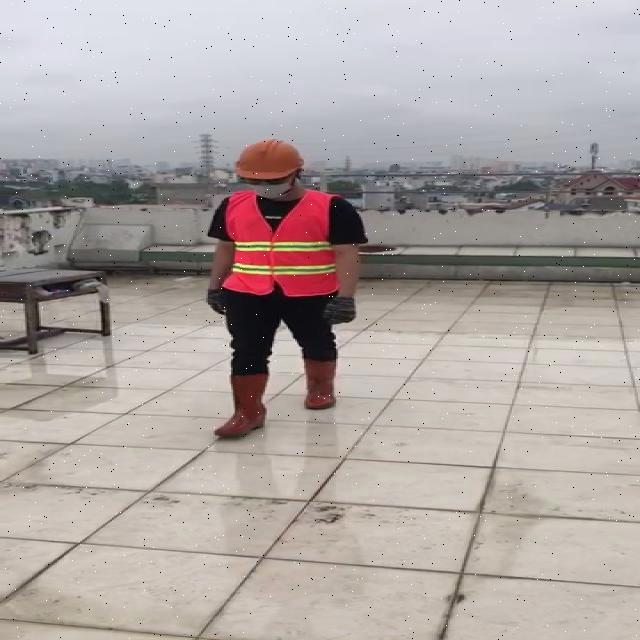Hard_hat: (230, 138, 313, 186)
Vest: (228, 187, 339, 299)
